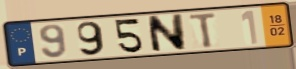1: (240, 10, 260, 46)
5: (113, 18, 145, 54)
9: (76, 20, 106, 57), (38, 23, 68, 60)
N: (145, 13, 188, 55)
T: (188, 11, 219, 50)
